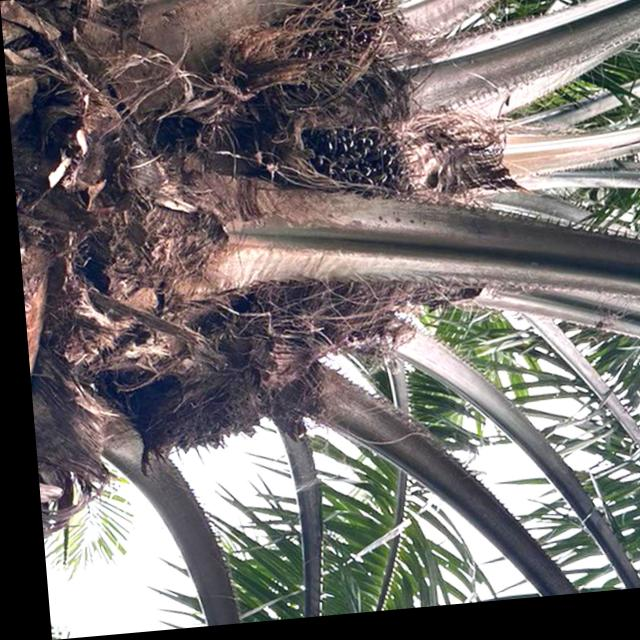unripe: (251, 116, 434, 240)
